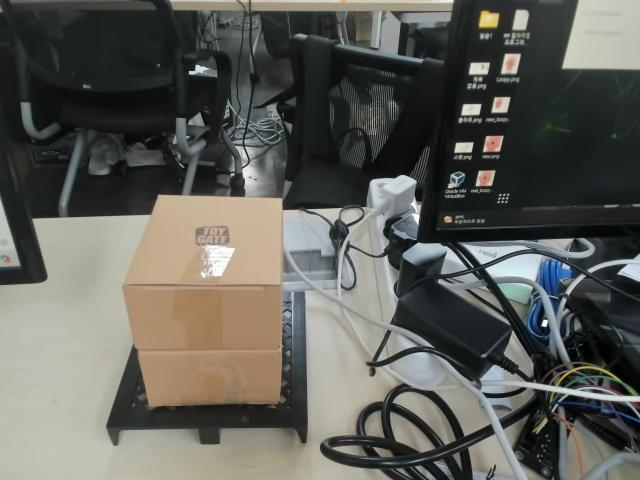box: (103, 193, 309, 447)
